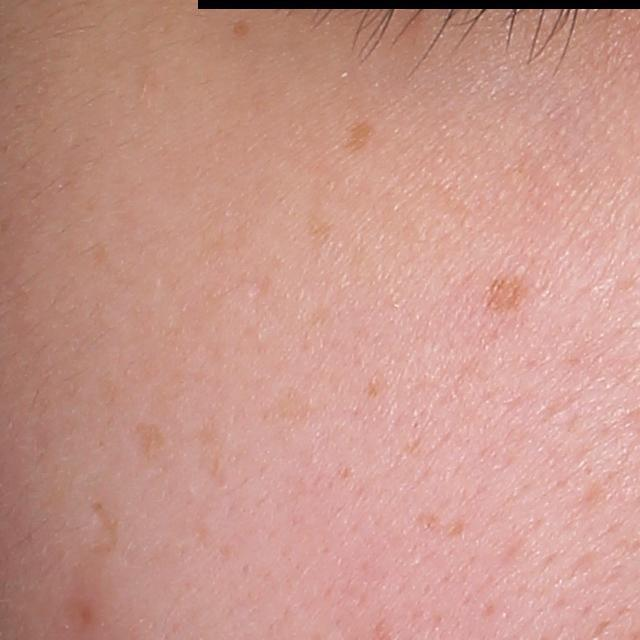melasma: (190, 418, 229, 488), (259, 387, 322, 425), (483, 273, 534, 317), (91, 500, 126, 559), (341, 114, 377, 153), (130, 419, 165, 458), (306, 207, 338, 249), (363, 370, 390, 400), (231, 17, 252, 40)
